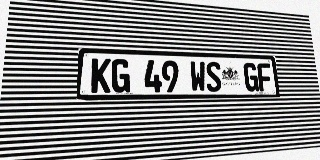4: (144, 60, 162, 92)
9: (162, 60, 179, 92)
F: (257, 63, 273, 91)
G: (111, 59, 130, 93), (243, 63, 259, 92)
K: (91, 58, 111, 93)
S: (205, 62, 222, 92)
W: (190, 61, 206, 92)
